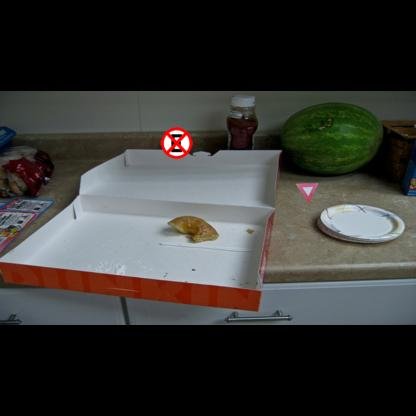R-6c: (161, 127, 192, 159)
